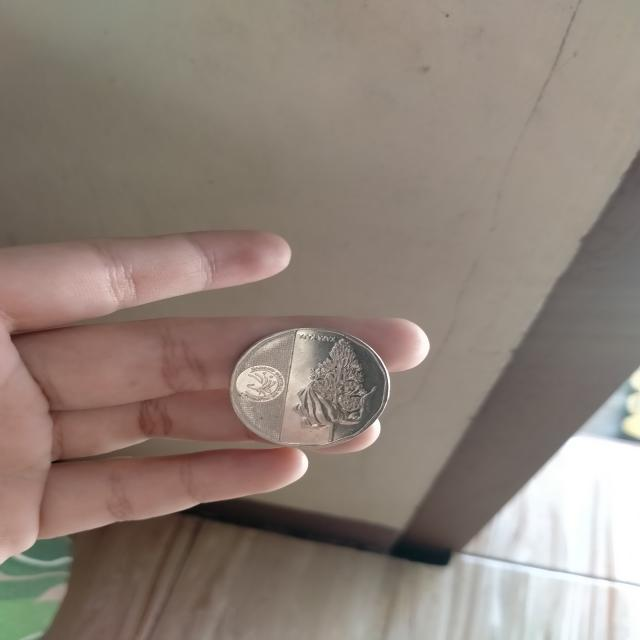10_New_Back: (286, 327, 384, 452)
